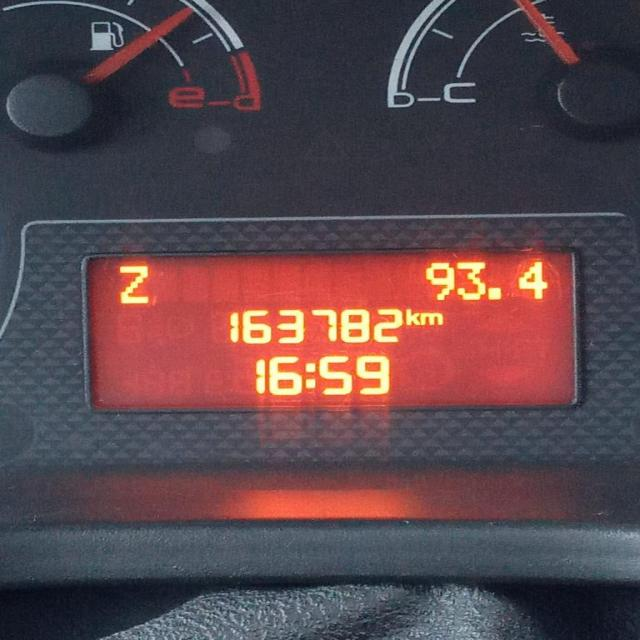odometer: (80, 240, 583, 414)
